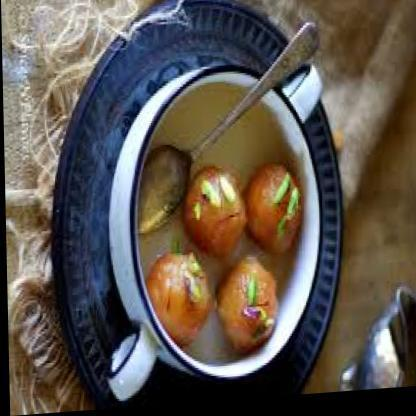gulab_jamun: (143, 254, 208, 350), (212, 261, 274, 358), (242, 165, 302, 261), (182, 167, 243, 261)
